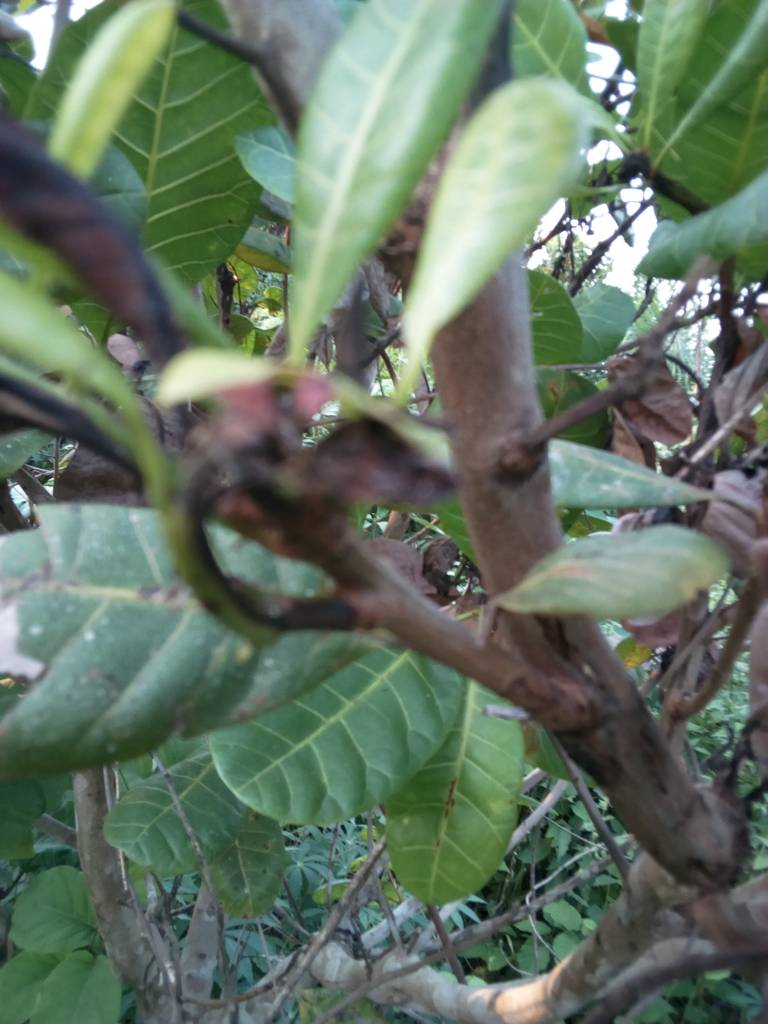Bactériose: (1, 522, 322, 738), (160, 355, 404, 630)
